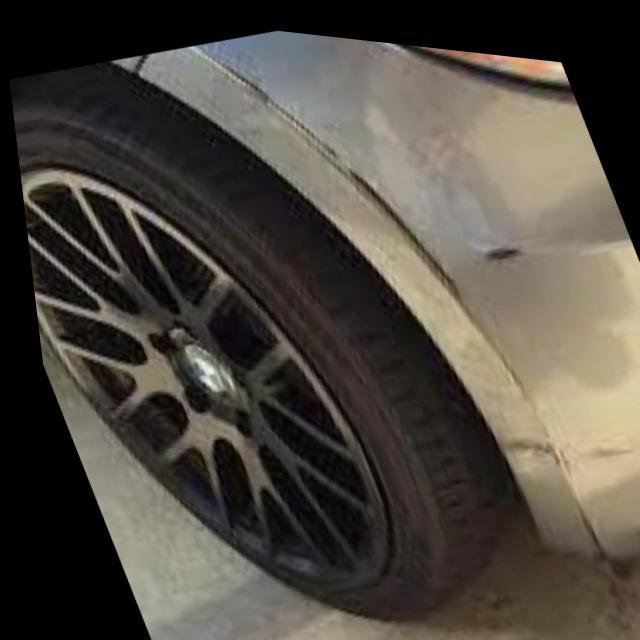crack: (226, 58, 474, 307)
scratch: (463, 216, 521, 261)
